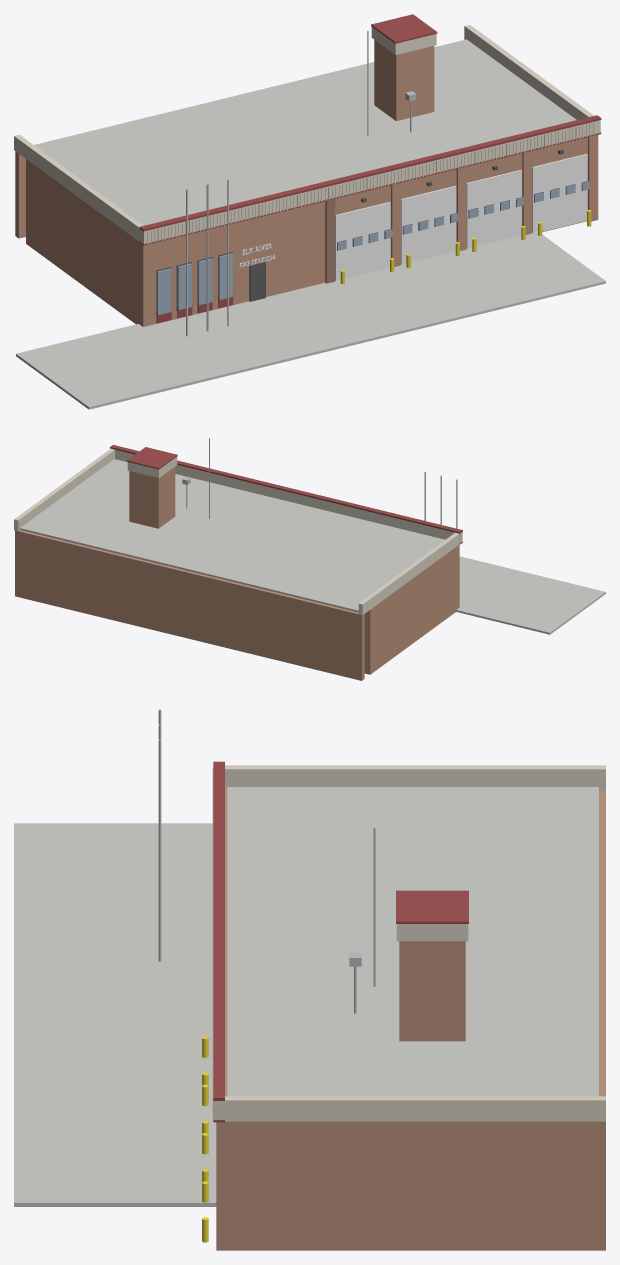
The model's file is elk-river-fire-dept-one.glb.
3 views of the same model, one above another, from view 1: azimuth 30°, elevation 25°; view 2: azimuth 150°, elevation 25°; view 3: azimuth 270°, elevation 25° (orthographic). The views are drawn at different scales.
Visible parts, largest first — view 1: FD_Roof, FD_Apron, FD_OfficeBody, FD_FasciaFront, FD_BayBody, FD_HoseTower, FD_BayDoor_3, FD_BayDoor_2, FD_BayDoor_0, FD_BayDoor_1, FD_MaroonTop, FD_FasciaSide_L (+15 smaller); view 2: FD_Roof, FD_BackWall, FD_Apron, FD_OfficeBody, FD_FasciaFront, FD_HoseTower, FD_MaroonTop, FD_FasciaSide_L, FD_FasciaSide_R, FD_TowerMaroon, FD_TowerFascia, FD_BayBody; view 3: FD_Roof, FD_Apron, FD_BayBody, FD_FasciaSide_R, FD_FasciaSide_L, FD_HoseTower, FD_MaroonTop, FD_TowerMaroon, FD_BackWall, FD_TowerFascia, FD_Pillar_End, FD_Flagpole_2.
Part boxes in pixels (x1=…): FD_Roof: x1=34, y1=39, x2=576, y2=225; FD_Apron: x1=16, y1=231, x2=605, y2=409; FD_OfficeBody: x1=26, y1=159, x2=325, y2=326; FD_FasciaFront: x1=140, y1=120, x2=600, y2=243; FD_BayBody: x1=335, y1=137, x2=587, y2=257; FD_HoseTower: x1=374, y1=40, x2=434, y2=121; FD_BayDoor_3: x1=532, y1=154, x2=587, y2=232; FD_BayDoor_2: x1=466, y1=170, x2=521, y2=248; FD_BayDoor_0: x1=335, y1=202, x2=390, y2=280; FD_BayDoor_1: x1=401, y1=186, x2=456, y2=264; FD_MaroonTop: x1=139, y1=115, x2=601, y2=231; FD_FasciaSide_L: x1=14, y1=134, x2=143, y2=241; FD_Roof: x1=20, y1=459, x2=445, y2=612; FD_BackWall: x1=15, y1=530, x2=364, y2=680; FD_Apron: x1=456, y1=556, x2=605, y2=634; FD_OfficeBody: x1=364, y1=544, x2=459, y2=674; FD_FasciaFront: x1=115, y1=449, x2=462, y2=542; FD_HoseTower: x1=129, y1=466, x2=175, y2=528; FD_MaroonTop: x1=110, y1=445, x2=462, y2=533; FD_FasciaSide_L: x1=358, y1=532, x2=459, y2=615; FD_FasciaSide_R: x1=14, y1=448, x2=114, y2=530; FD_TowerMaroon: x1=127, y1=447, x2=177, y2=469; FD_TowerFascia: x1=127, y1=456, x2=177, y2=477; FD_BayBody: x1=18, y1=530, x2=222, y2=616; FD_Roof: x1=227, y1=787, x2=598, y2=1096; FD_Apron: x1=14, y1=823, x2=216, y2=1206; FD_BayBody: x1=220, y1=921, x2=605, y2=1250; FD_FasciaSide_R: x1=224, y1=1096, x2=605, y2=1121; FD_FasciaSide_L: x1=225, y1=765, x2=605, y2=790; FD_HoseTower: x1=399, y1=941, x2=465, y2=1041; FD_MaroonTop: x1=213, y1=761, x2=224, y2=1100; FD_TowerMaroon: x1=396, y1=890, x2=468, y2=923; FD_BackWall: x1=595, y1=790, x2=605, y2=1249; FD_TowerFascia: x1=396, y1=924, x2=468, y2=941; FD_Pillar_End: x1=216, y1=1121, x2=235, y2=1250; FD_Flagpole_2: x1=158, y1=739, x2=161, y2=961.
Size of the model in its own units: 36.53 by 11.7 by 21.5.
